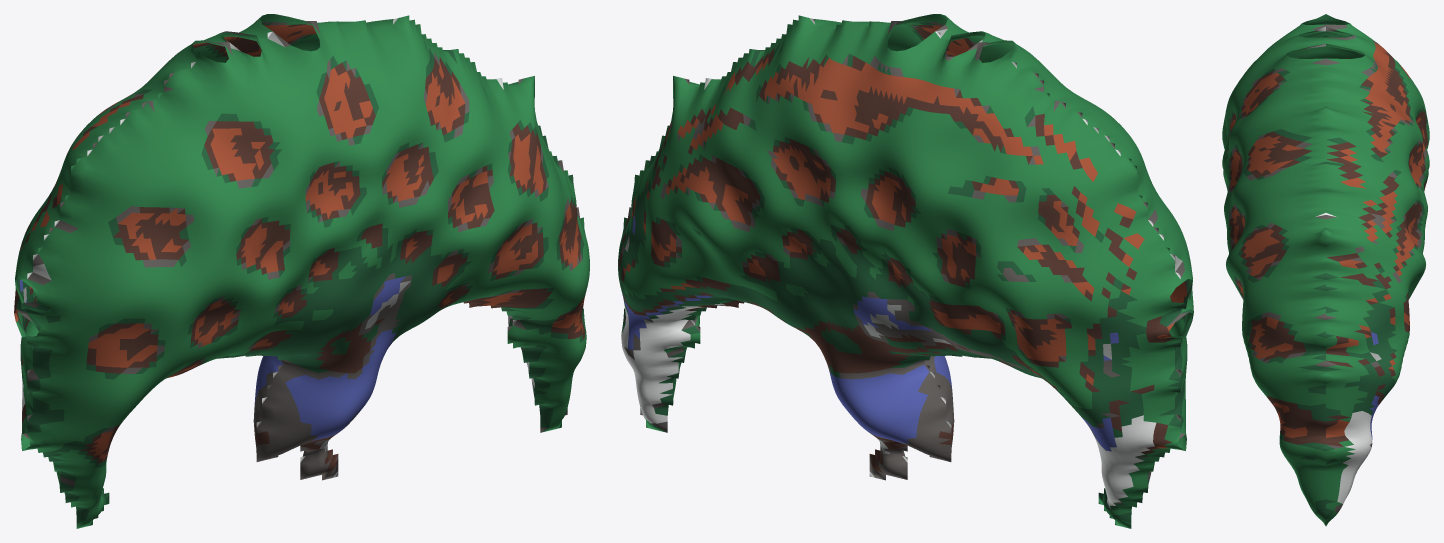
Rendered from peacockrose.glb.
The picture shows the model from 3 angles, left to right: view 1: azimuth 30°, elevation 25°; view 2: azimuth 150°, elevation 25°; view 3: azimuth 270°, elevation 25°; orthographic projection. The views are drawn at different scales.
Visible parts, largest first — view 1: peacockrose; view 2: peacockrose; view 3: peacockrose.
Boxes of the visible parts, x1,y1,x2,y2 form: peacockrose: [14, 14, 589, 528]; peacockrose: [618, 14, 1193, 528]; peacockrose: [1222, 14, 1429, 526].
Size of the model in its own units: 857 by 680 by 343.
